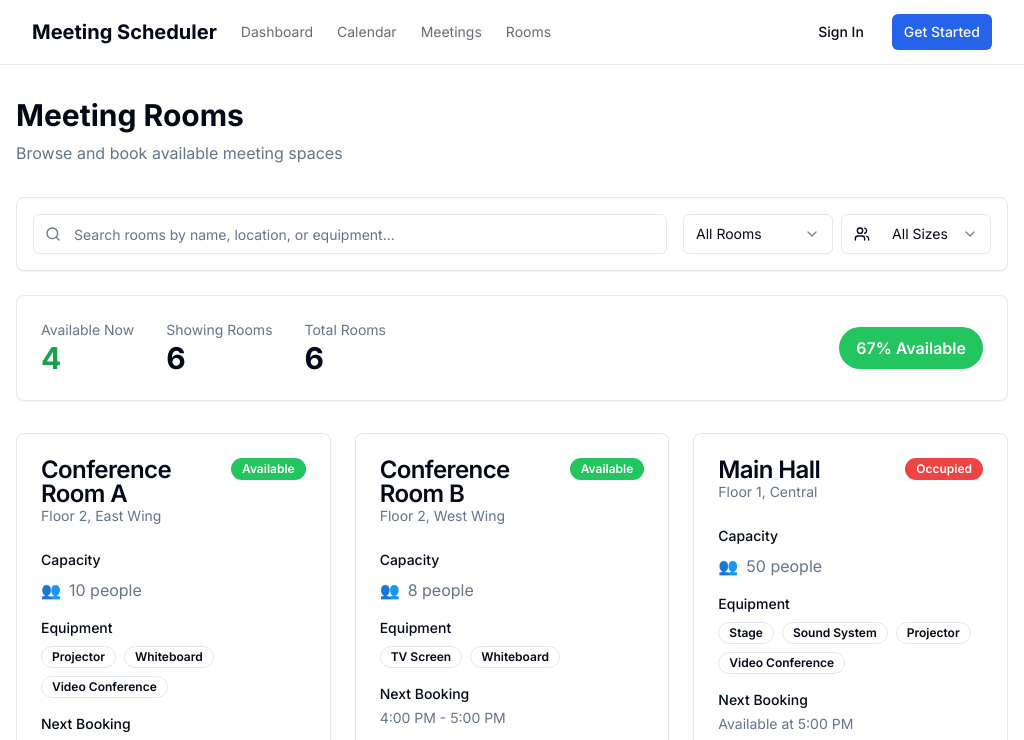
Test: RoomsPage › shows room count when filters are applied
This screenshot has width=1024, height=740.
In the field with placeholder "Search rooms by name, location, or equipment...": (350,234) left=33, top=214, right=667, bottom=254, type "Conference"
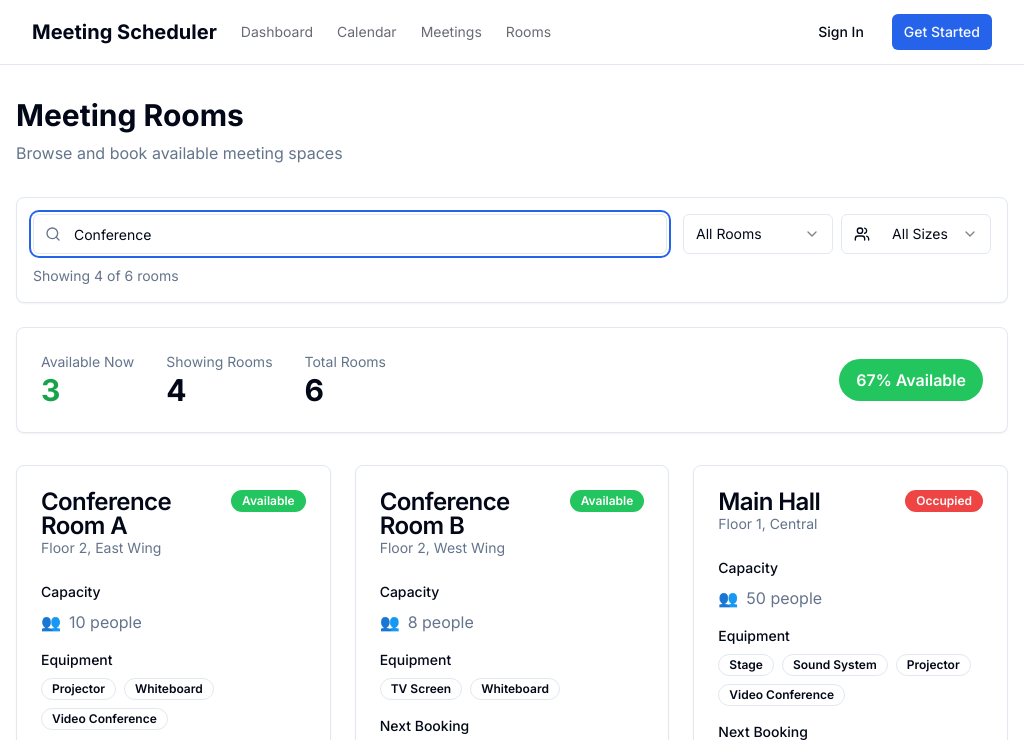
Check: the text "Showing 4 of 6 rooms" is shown, box left=33, top=267, right=179, bottom=284
